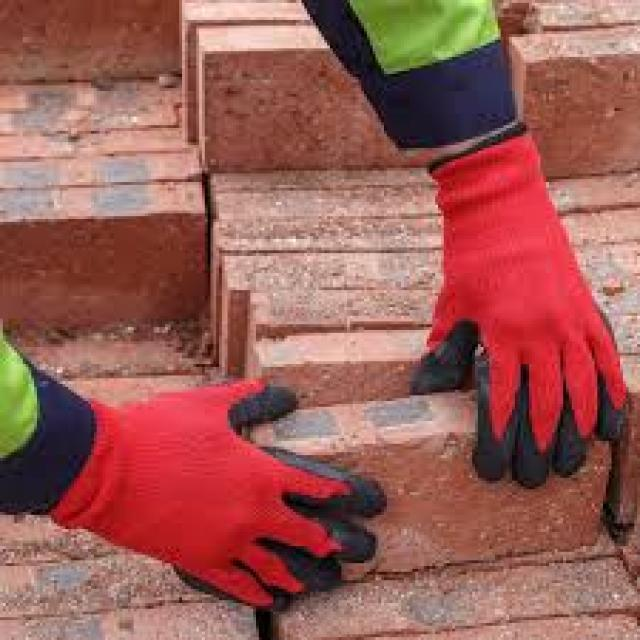Gloves: (411, 135, 628, 486), (52, 381, 382, 608)
